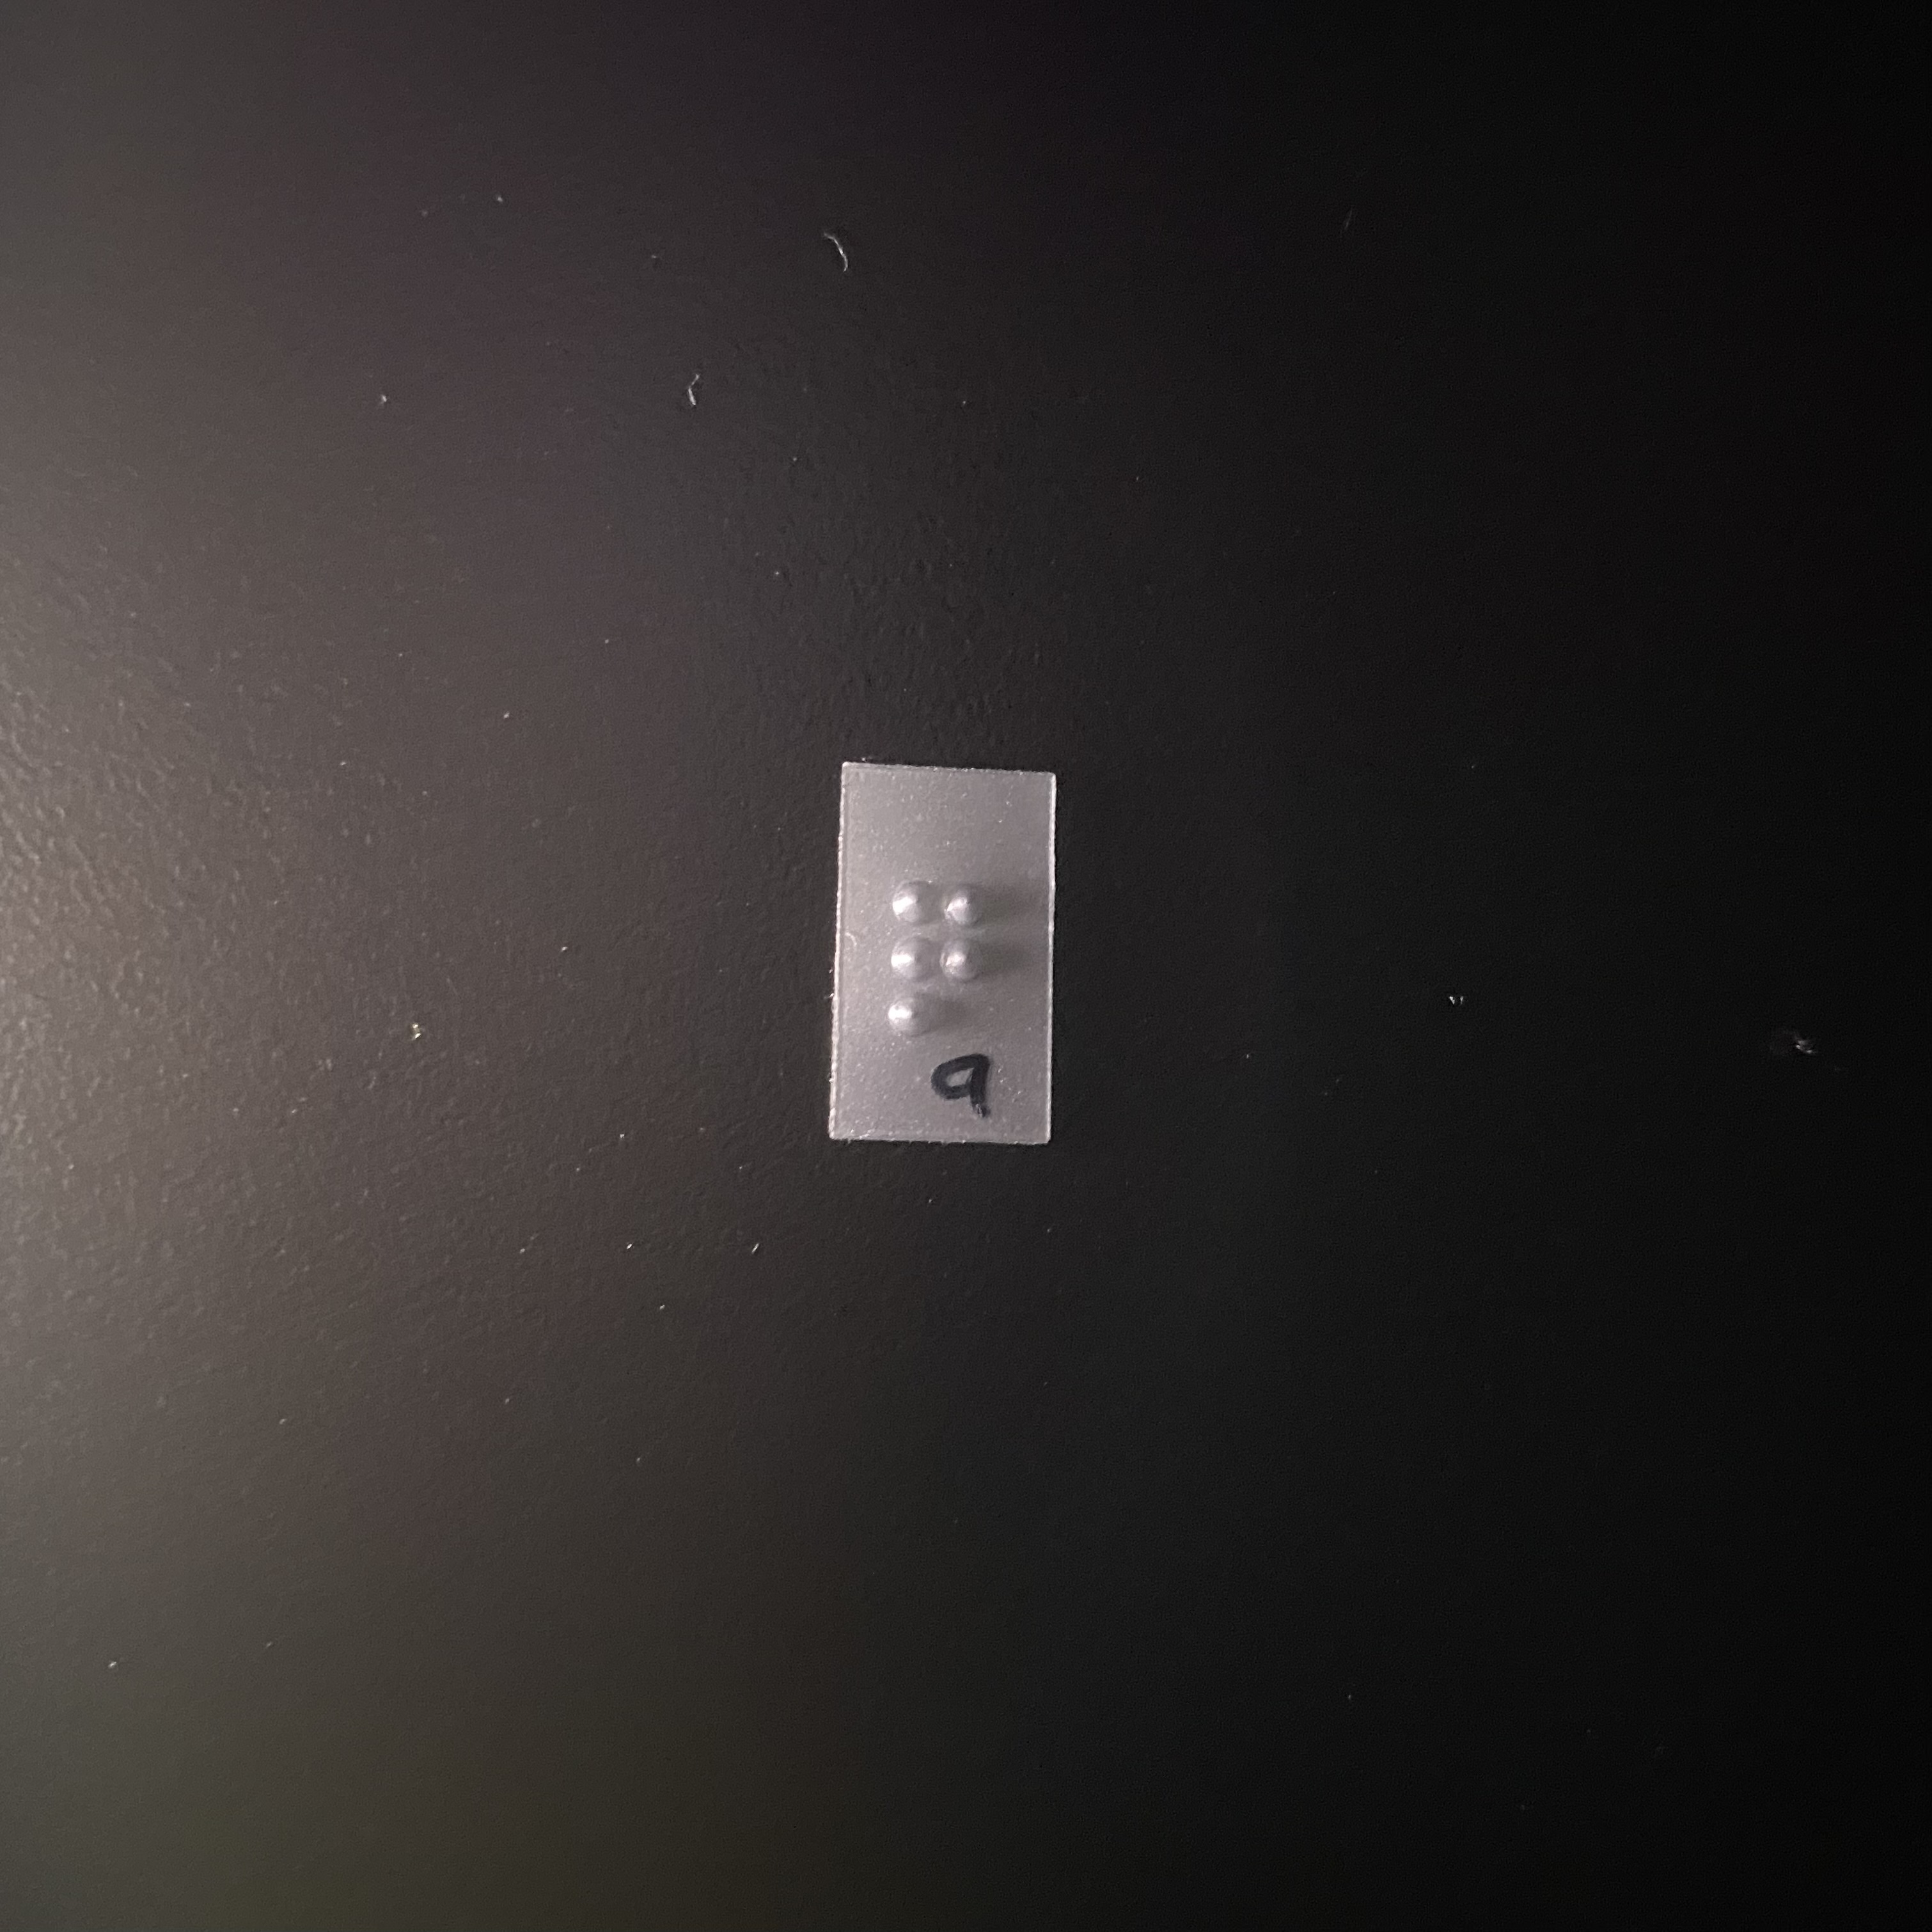q: (882, 872, 1021, 1048)
